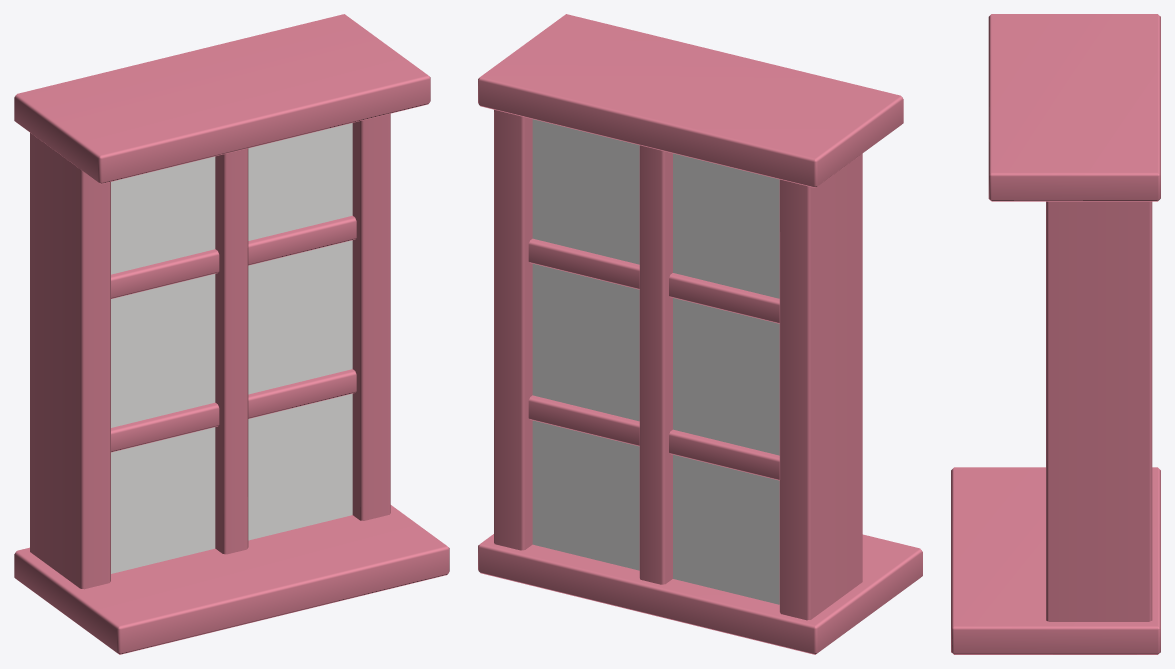
Rendered from Window_11.glb.
3 renders of one model, left to right at view 1: azimuth 30°, elevation 25°; view 2: azimuth 150°, elevation 25°; view 3: azimuth 270°, elevation 25°, orthographic. The views are drawn at different scales.
Parts seen in each view (by area): view 1: Window_20; view 2: Window_20; view 3: Window_20.
Part boxes in pixels (left/top/right/bottom): Window_20: left=14, top=14, right=449, bottom=654; Window_20: left=478, top=14, right=922, bottom=654; Window_20: left=951, top=14, right=1160, bottom=654.
Size of the model in its own units: 1.58 by 2.21 by 0.8725.
2 materials, 2 textured.
